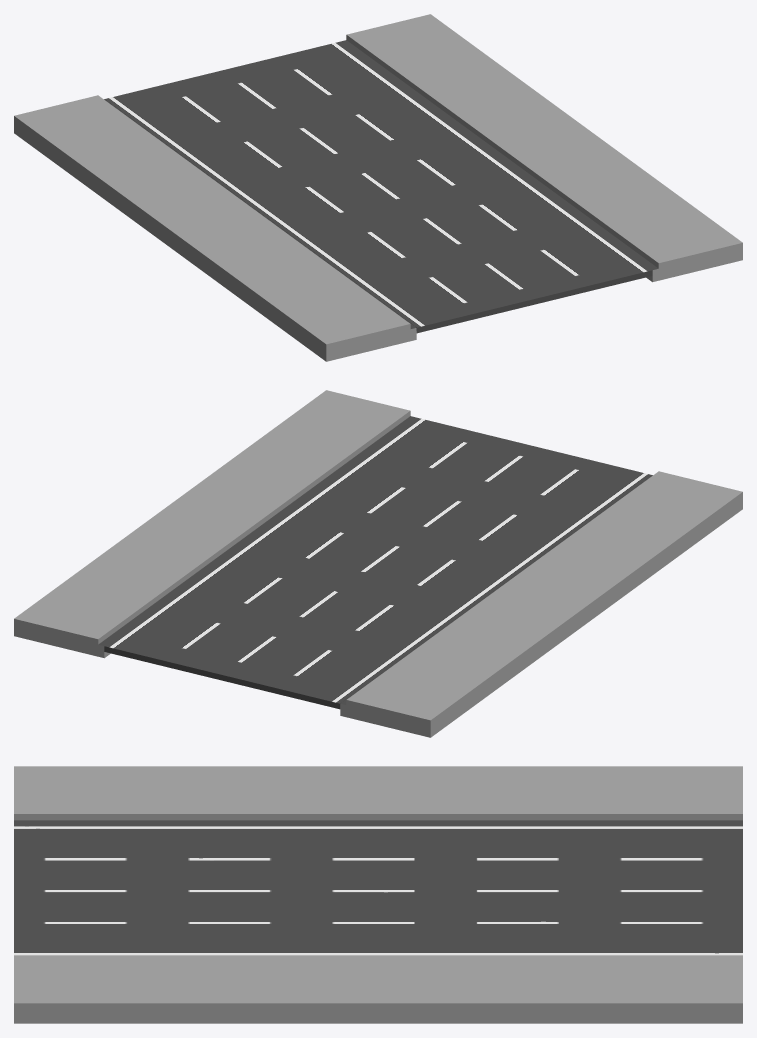
Rendered from tile_road_4.fbx.
3 views of the same model, one above another, from view 1: azimuth 30°, elevation 25°; view 2: azimuth 150°, elevation 25°; view 3: azimuth 270°, elevation 25° (orthographic). The views are drawn at different scales.
Parts seen in each view (by area): view 1: road_4, sidewalk_L, sidewalk_R; view 2: road_4, sidewalk_L, sidewalk_R; view 3: road_4, sidewalk_R, sidewalk_L.
Part boxes in pixels (left/top/right/bottom): road_4: left=105, top=41, right=652, bottom=333; sidewalk_L: left=14, top=95, right=416, bottom=361; sidewalk_R: left=340, top=14, right=742, bottom=282; road_4: left=104, top=417, right=651, bottom=709; sidewalk_L: left=340, top=471, right=742, bottom=737; sidewalk_R: left=14, top=390, right=416, bottom=658; road_4: left=14, top=824, right=742, bottom=955; sidewalk_R: left=14, top=955, right=742, bottom=1023; sidewalk_L: left=14, top=766, right=742, bottom=823.
Bounding box in the file's own units: 2661 × 107 × 3455.
3 materials, 3 textured.
